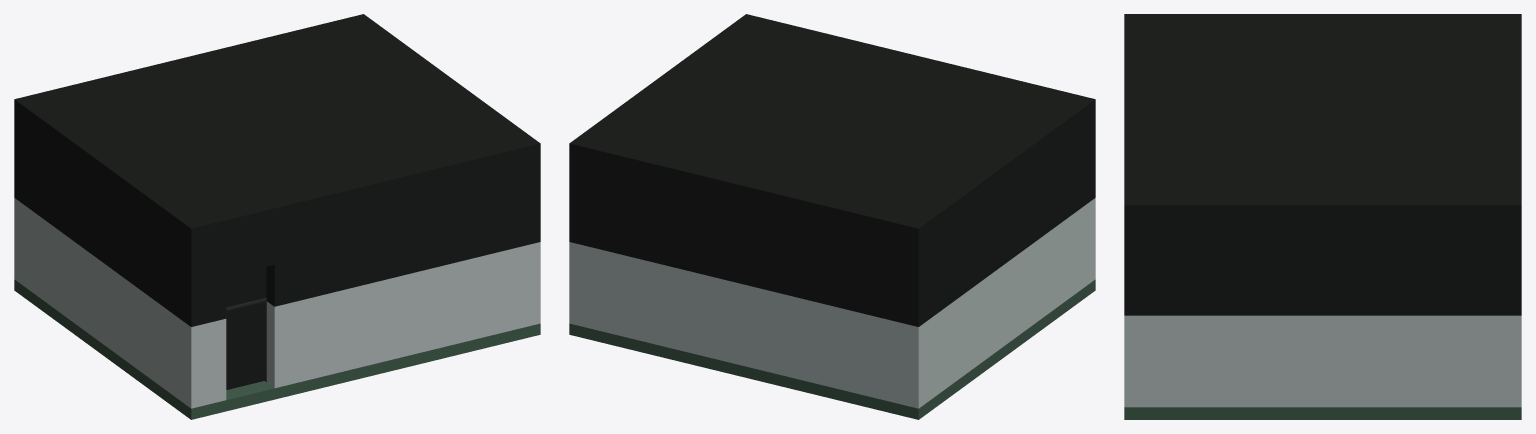
File: room_plate.glb
The picture shows the model from 3 angles, left to right: view 1: azimuth 30°, elevation 25°; view 2: azimuth 150°, elevation 25°; view 3: azimuth 270°, elevation 25°; orthographic projection. The views are drawn at different scales.
Visible parts, largest first — view 1: ceiling, wall_s, wall_w, floor, IA_door_gallery, wall_n; view 2: ceiling, wall_n, wall_w, floor, wall_s; view 3: ceiling, wall_e, floor, wall_n, wall_s.
Part boxes in pixels (<box>): ceiling: <box>14,14,540,239</box>; wall_s: <box>183,155,540,408</box>; wall_w: <box>22,116,183,402</box>; floor: <box>14,279,540,419</box>; IA_door_gallery: <box>226,267,265,389</box>; wall_n: <box>14,111,21,284</box>; ceiling: <box>569,14,1095,239</box>; wall_n: <box>569,155,926,408</box>; wall_w: <box>926,116,1087,402</box>; floor: <box>569,279,1095,419</box>; wall_s: <box>1088,111,1095,284</box>; ceiling: <box>1124,14,1521,217</box>; wall_e: <box>1142,218,1503,407</box>; floor: <box>1124,407,1521,419</box>; wall_n: <box>1504,218,1521,407</box>; wall_s: <box>1124,218,1141,407</box>.
Bounding box in the file's own units: 6.5 × 3.4 × 5.7.
